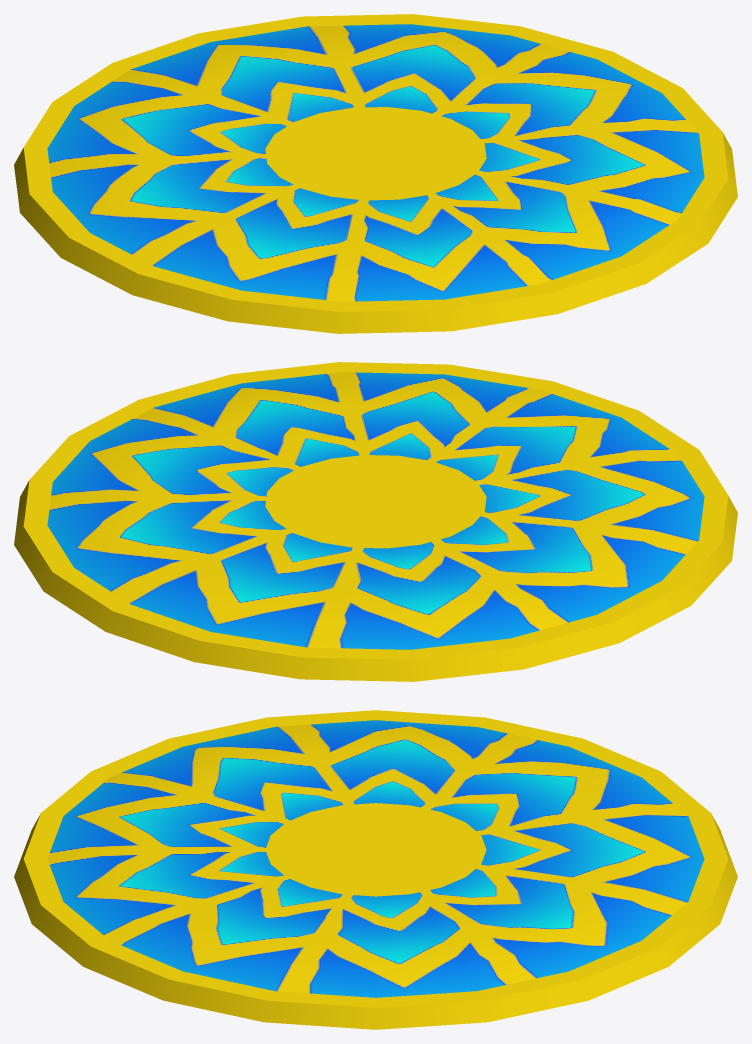
File: Booster_Pad_Vertical_Collider_ConvexHull.glb
3 renders of one model, top to bottom at view 1: azimuth 30°, elevation 25°; view 2: azimuth 150°, elevation 25°; view 3: azimuth 270°, elevation 25°, orthographic.
Visible parts, largest first — view 1: Booster_Pad_Vertical_Collider_ConvexHull; view 2: Booster_Pad_Vertical_Collider_ConvexHull; view 3: Booster_Pad_Vertical_Collider_ConvexHull.
Part boxes in pixels (x1,y1,x2,y2): Booster_Pad_Vertical_Collider_ConvexHull: (14, 14, 737, 333); Booster_Pad_Vertical_Collider_ConvexHull: (14, 362, 737, 681); Booster_Pad_Vertical_Collider_ConvexHull: (14, 710, 737, 1029).
Bounding box in the file's own units: 4 × 0.165 × 4.
1 material, 1 textured.
